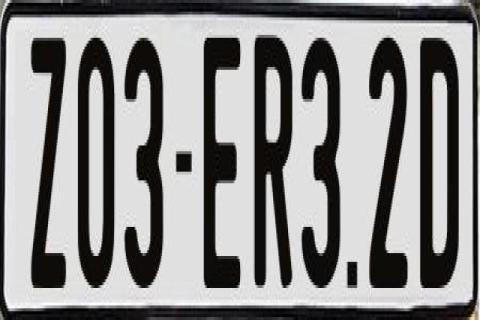0: (300, 35, 343, 303), (368, 35, 412, 291), (122, 32, 160, 291), (74, 29, 111, 288)
D: (417, 29, 455, 285)
E: (204, 32, 242, 285)
R: (255, 32, 298, 288)
Z: (32, 32, 72, 282)
